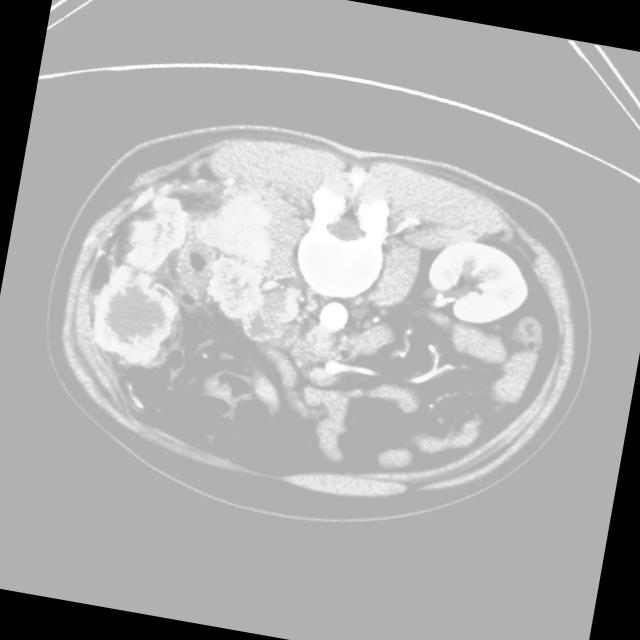TUMOR: (76, 185, 533, 473)
